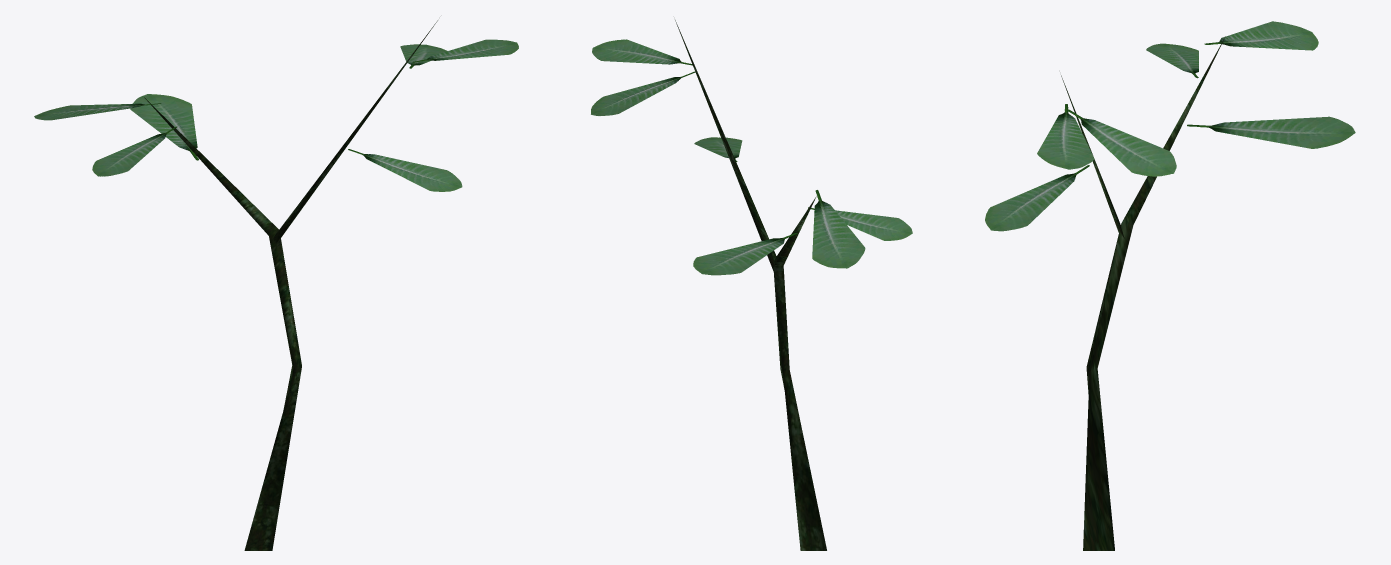
Rendered from leaf_sapling_a2_l2.fbx.
The picture shows the model from 3 angles, left to right: view 1: azimuth 30°, elevation 25°; view 2: azimuth 150°, elevation 25°; view 3: azimuth 270°, elevation 25°; orthographic projection. The views are drawn at different scales.
Visible parts, largest first — view 1: mesh_node; view 2: mesh_node; view 3: mesh_node.
Part boxes in pixels (x1=…): mesh_node: x1=34, y1=20, x2=518, y2=550; mesh_node: x1=591, y1=20, x2=912, y2=550; mesh_node: x1=985, y1=21, x2=1355, y2=550.
Bounding box in the file's own units: 1.12 × 1.32 × 0.8799.
1 material, 1 textured.
